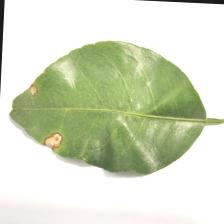canker: (24, 74, 72, 161)
